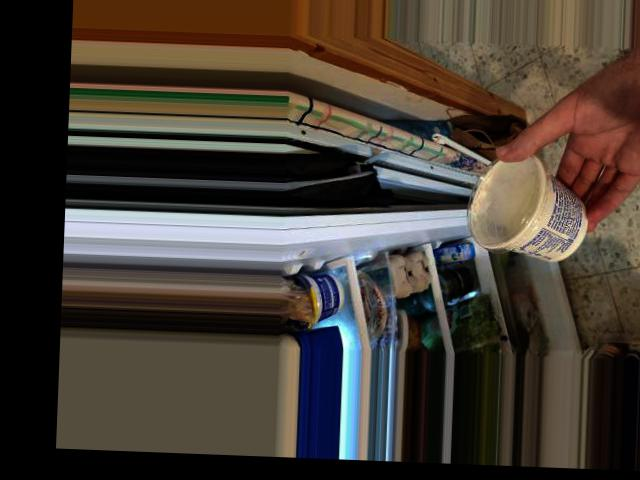cotage: (467, 158, 594, 254)
